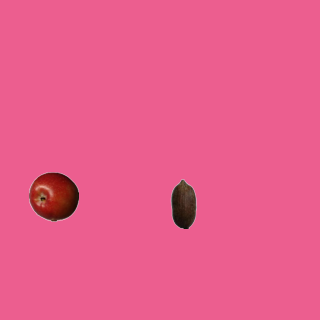Apple Braeburn: (28, 171, 78, 221)
Nut Pecan: (158, 178, 208, 228)
